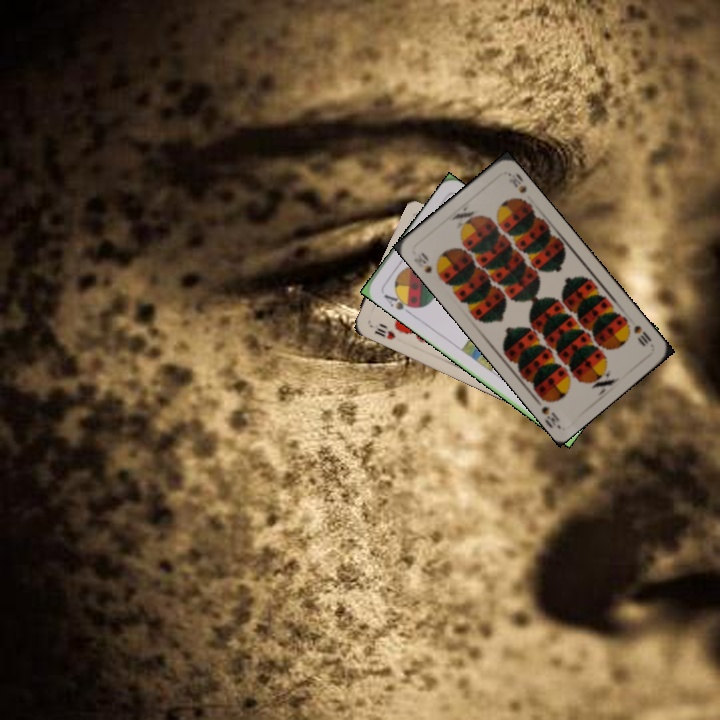H10: (365, 320, 398, 342)
S10: (410, 248, 443, 279), (629, 321, 654, 349)
SA: (380, 288, 418, 317)
